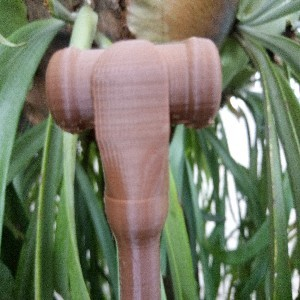palu: (45, 36, 224, 300)
